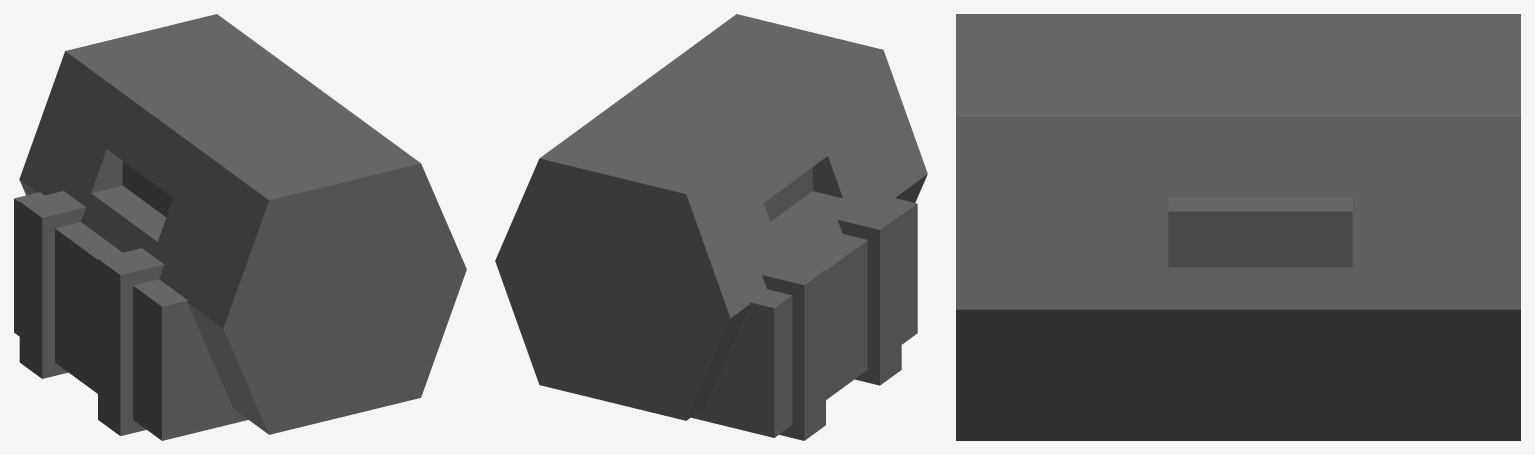
The model's file is mg_body.obj.
The picture shows the model from 3 angles, left to right: view 1: azimuth 30°, elevation 25°; view 2: azimuth 150°, elevation 25°; view 3: azimuth 270°, elevation 25°; orthographic projection. The views are drawn at different scales.
Parts seen in each view (by area): view 1: Cube.010; view 2: Cube.010; view 3: Cube.010.
Boxes of the visible parts, x1=… form: Cube.010: x1=14, y1=14, x2=466, y2=440; Cube.010: x1=495, y1=14, x2=927, y2=440; Cube.010: x1=956, y1=14, x2=1520, y2=440.
Size of the model in its own units: 2.2 by 1.96 by 2.76.
Materials: 1 (1 with a texture image).
